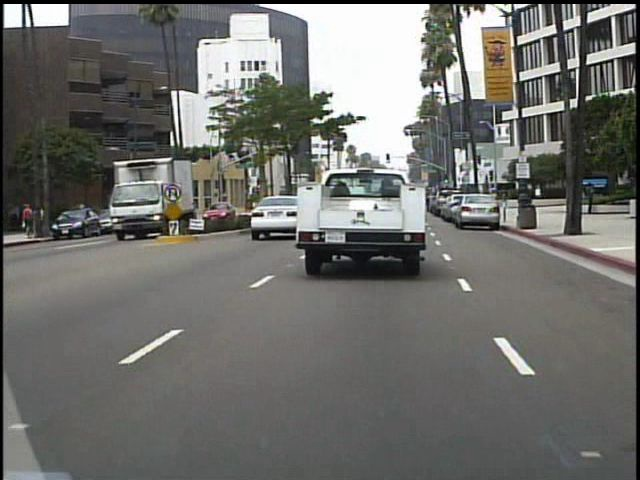person: (582, 179, 598, 217)
